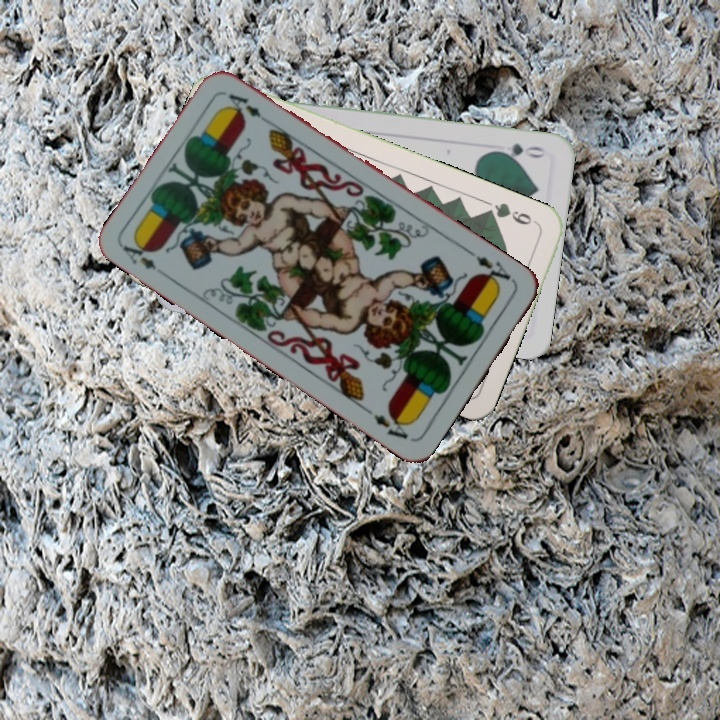EA: (118, 235, 171, 279), (471, 252, 517, 290)
G9: (481, 198, 541, 228)
GO: (490, 139, 549, 162)
